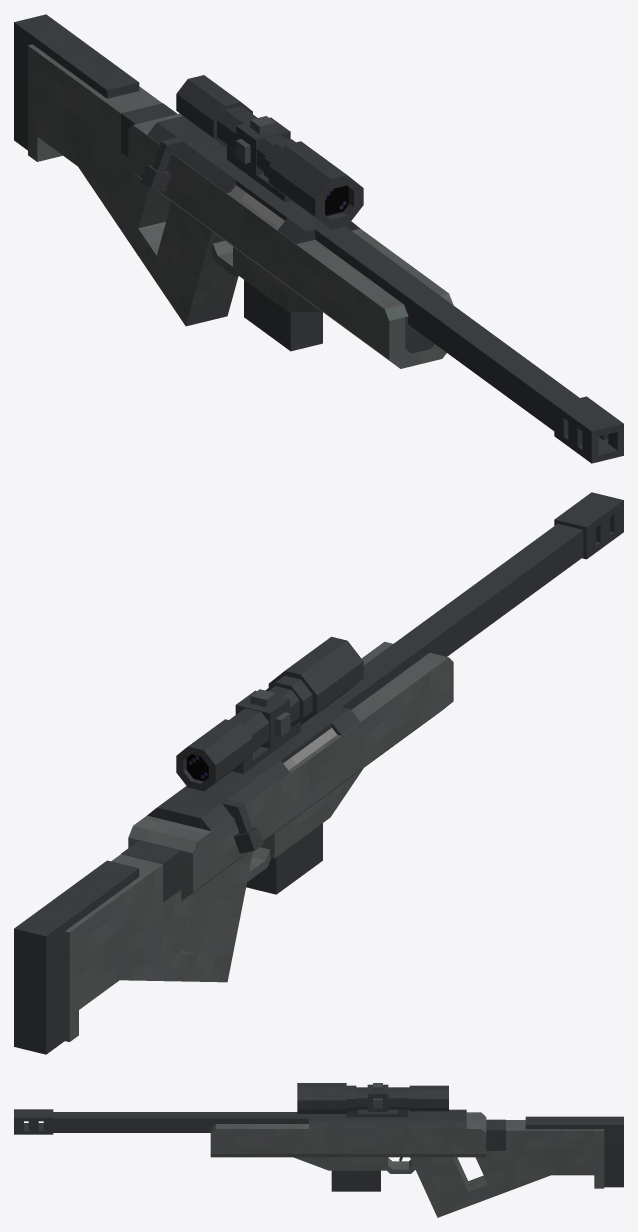
File: light_sniper.gltf
3 views of the same model, one above another, from view 1: azimuth 30°, elevation 25°; view 2: azimuth 150°, elevation 25°; view 3: azimuth 270°, elevation 25° (orthographic). The views are drawn at different scales.
Visible parts, largest first — view 1: main body (×2), stock, barrel 1, large scope piece (×6), handle, barrel 2, bottom of handle, barrel casing, cheek rest, magazine, shoulder rest, muzzle (×2) (+6 smaller); view 2: main body (×2), stock, shoulder rest, barrel 1, large scope piece (×5), barrel 2, handle, barrel casing, cheek rest, bottom of handle, magazine, mag cover (+6 smaller); view 3: main body (×2), stock, large scope piece (×6), barrel 1, barrel 2, handle, bottom of handle, shoulder rest, left of barrel casing, barrel casing, cheek rest, magazine (+9 smaller).
Boxes of the visible parts, x1,y1,x2,y2 form: main body (×2): (133,113,448,356); stock: (28,44,161,197); barrel 1: (315,226,489,364); large scope piece (×6): (176,75,347,216); handle: (157,202,238,306); barrel 2: (464,332,579,430); bottom of handle: (78,167,232,326); barrel casing: (157,116,350,241); cheek rest: (32,28,139,98); magazine: (244,280,322,351); shoulder rest: (14,14,64,150); muzzle (×2): (554,396,623,463); main body (×2): (133,641,448,888); stock: (65,854,162,1016); shoulder rest: (14,915,64,1054); barrel 1: (330,592,490,709); large scope piece (×5): (201,636,363,781); barrel 2: (465,523,583,624); handle: (180,851,252,954); barrel casing: (157,704,350,828); cheek rest: (33,860,139,930); bottom of handle: (120,950,232,982); magazine: (246,823,322,894); mag cover: (260,792,330,858); main body (×2): (215,1112,481,1153); stock: (506,1120,604,1175); large scope piece (×6): (297,1083,448,1113); barrel 1: (151,1112,308,1132); barrel 2: (53,1112,151,1132); handle: (410,1157,468,1205); bottom of handle: (432,1175,550,1217); shoulder rest: (604,1116,623,1187); left of barrel casing: (309,1121,466,1128); barrel casing: (309,1109,466,1120); cheek rest: (525,1116,604,1129); magazine: (331,1170,380,1191).
Size of the model in its own units: 0.1725 by 0.4467 by 1.94.
Materials: 6 (6 with a texture image).
